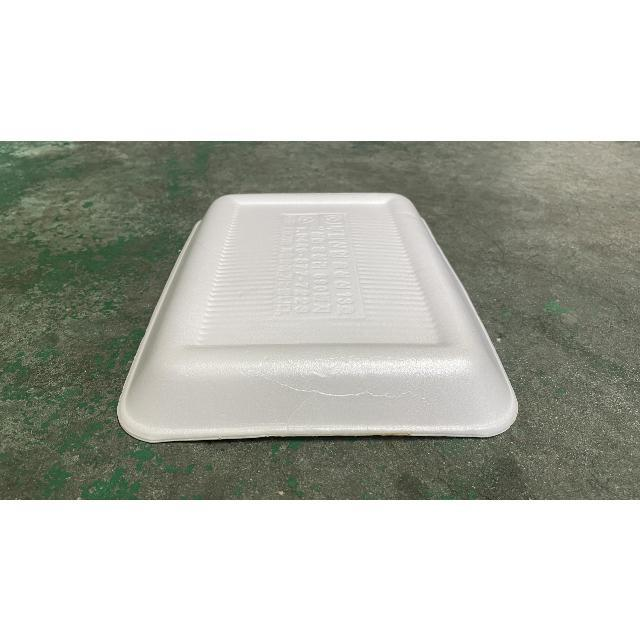Recipiente plastico: (119, 194, 518, 442)
